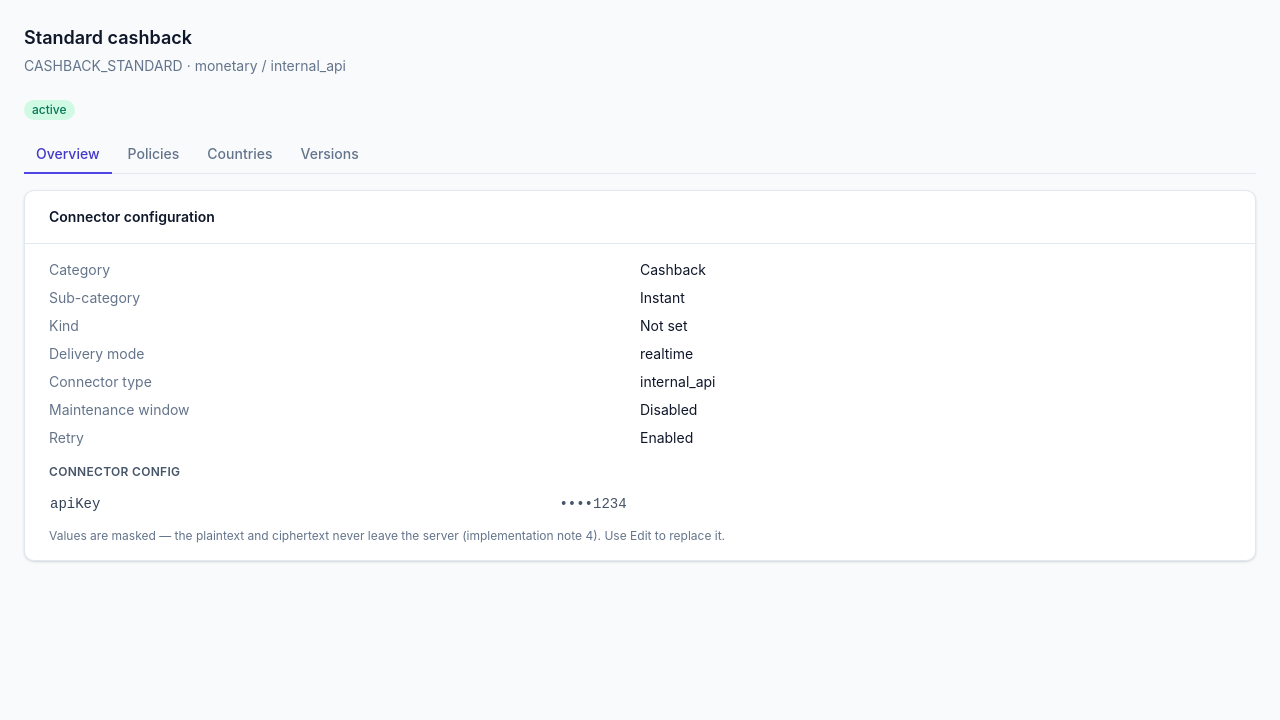
Test case: RewardDetailPage › renders assigned countries once populated, on the Countries tab
What coordinates should you click on to do the following:
click the tab "Countries"
I would click on:
 (240, 155)
Its box is [195,136,284,174].
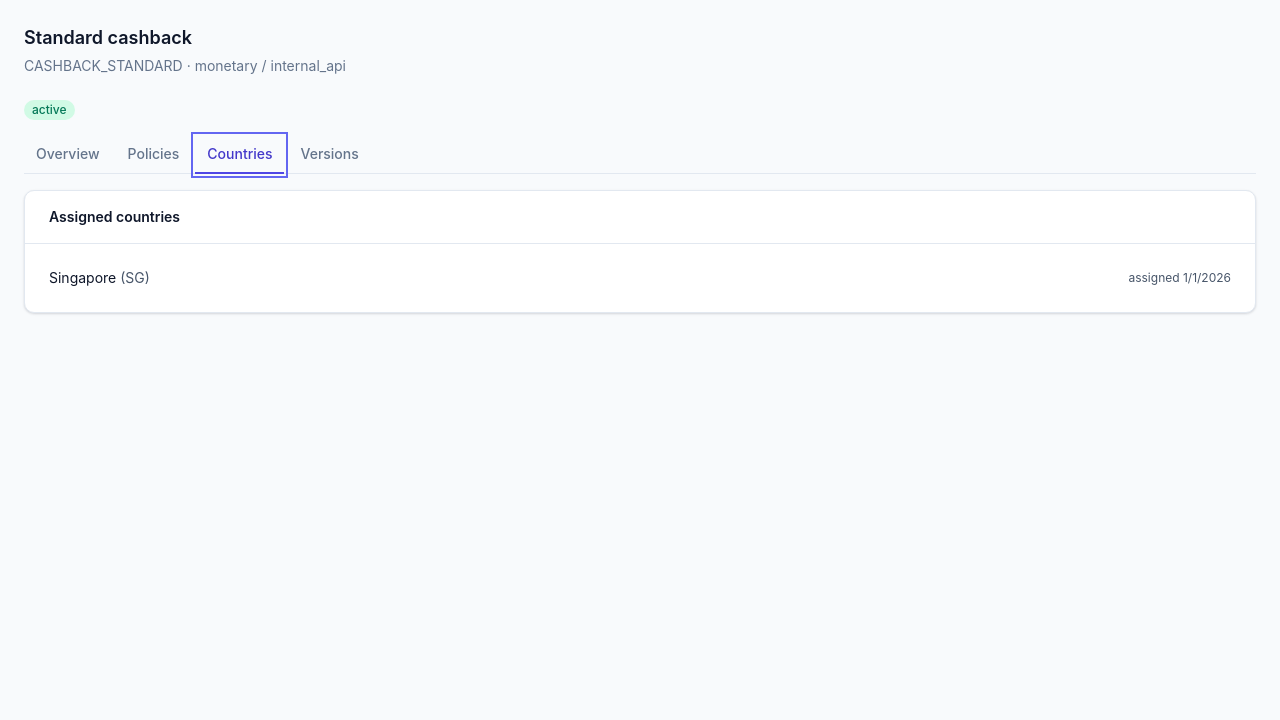
Check: the text "Singapore (SG)" is shown, box [49,268,150,288]
